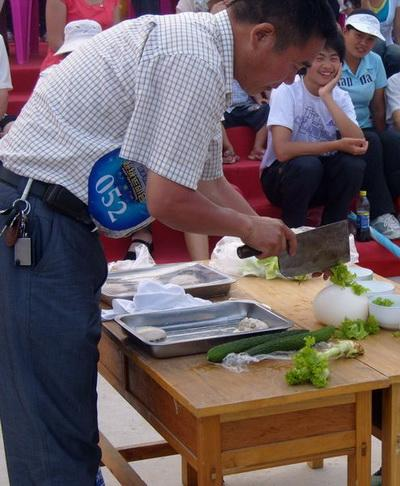person: (2, 3, 336, 486)
